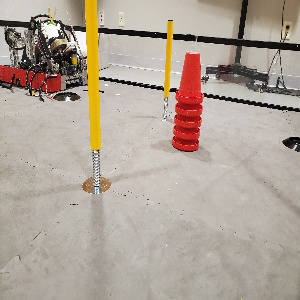Red_5: (171, 51, 202, 151)
